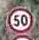limite 50: (7, 6, 35, 33)
